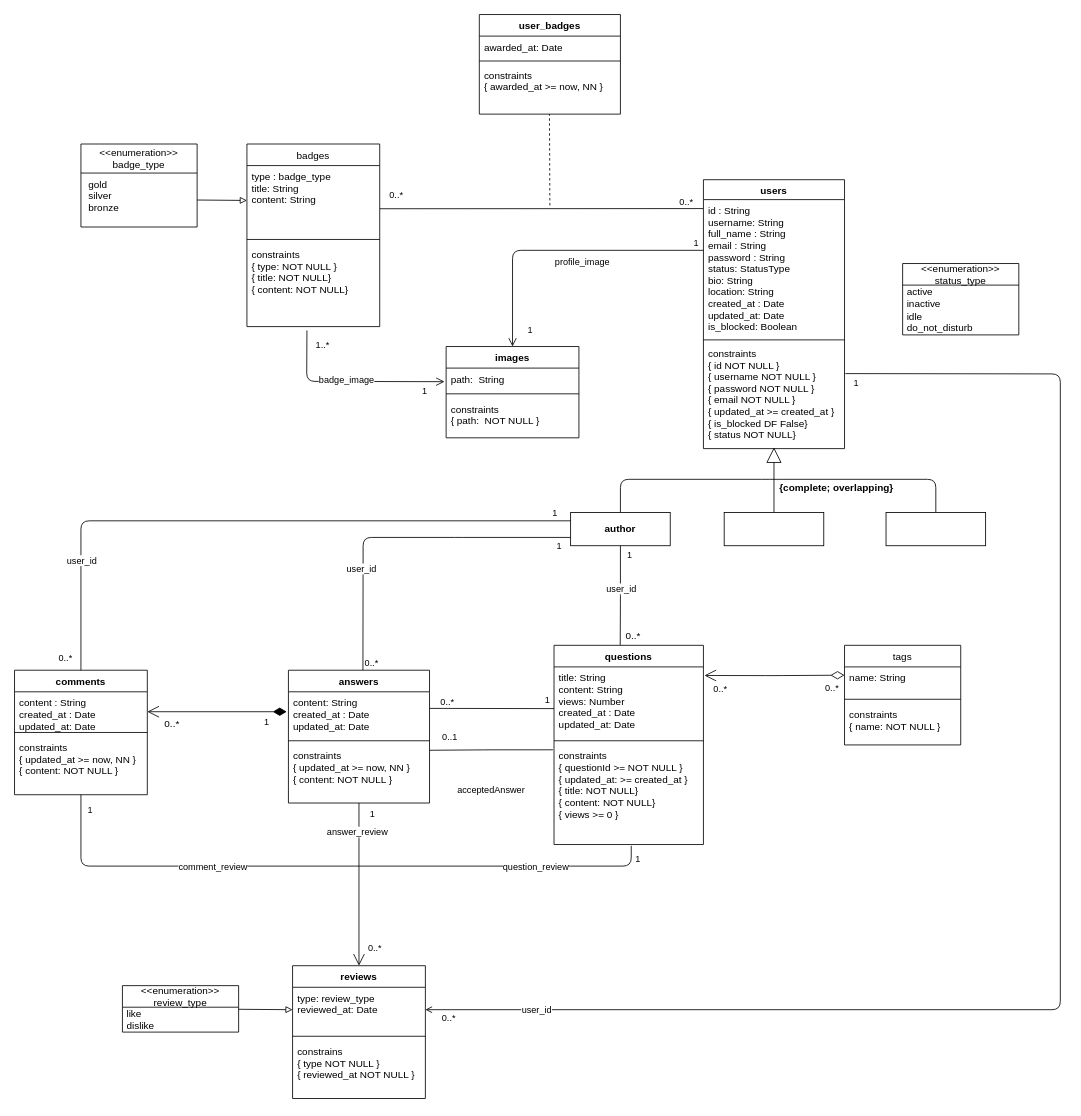
Some shapes in this 1081 by 1116 pixel diagram are drawn without their labels. The centre of each missing label's shape, as x and y in pixels:
administrators: the point at 935,529
moderators: the point at 773,529
